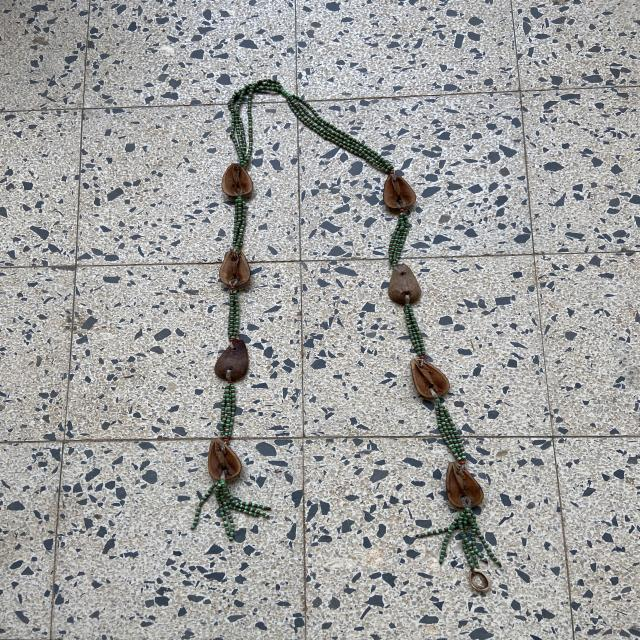facedown: (384, 253, 429, 311), (214, 335, 254, 385)
faceup: (366, 160, 428, 214), (436, 460, 493, 513), (403, 352, 457, 404), (200, 432, 244, 484), (218, 158, 258, 204), (219, 248, 253, 292)
